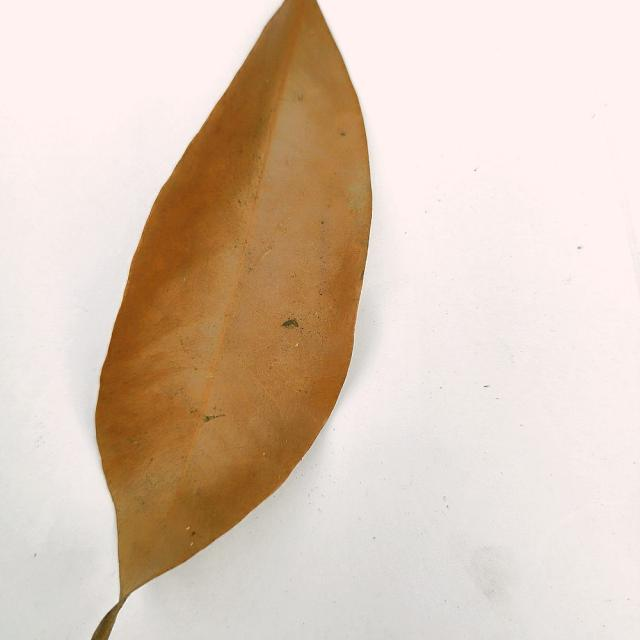Dry_Leaf-Lychee: (94, 0, 374, 607)
